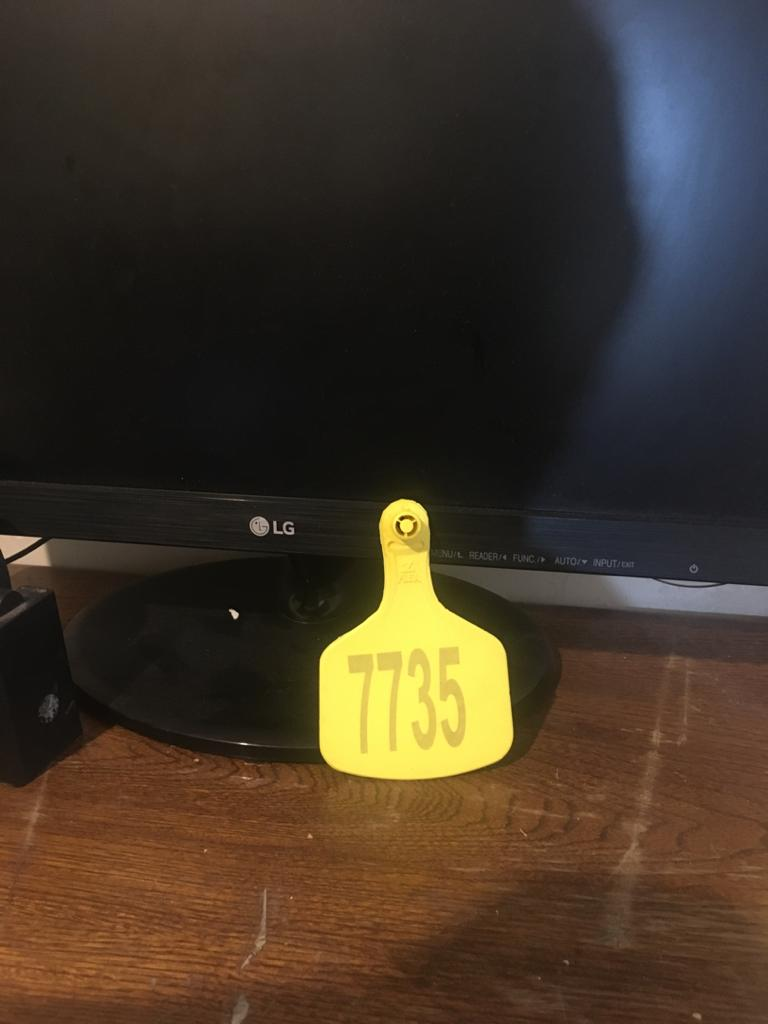digit: (339, 649, 470, 756)
